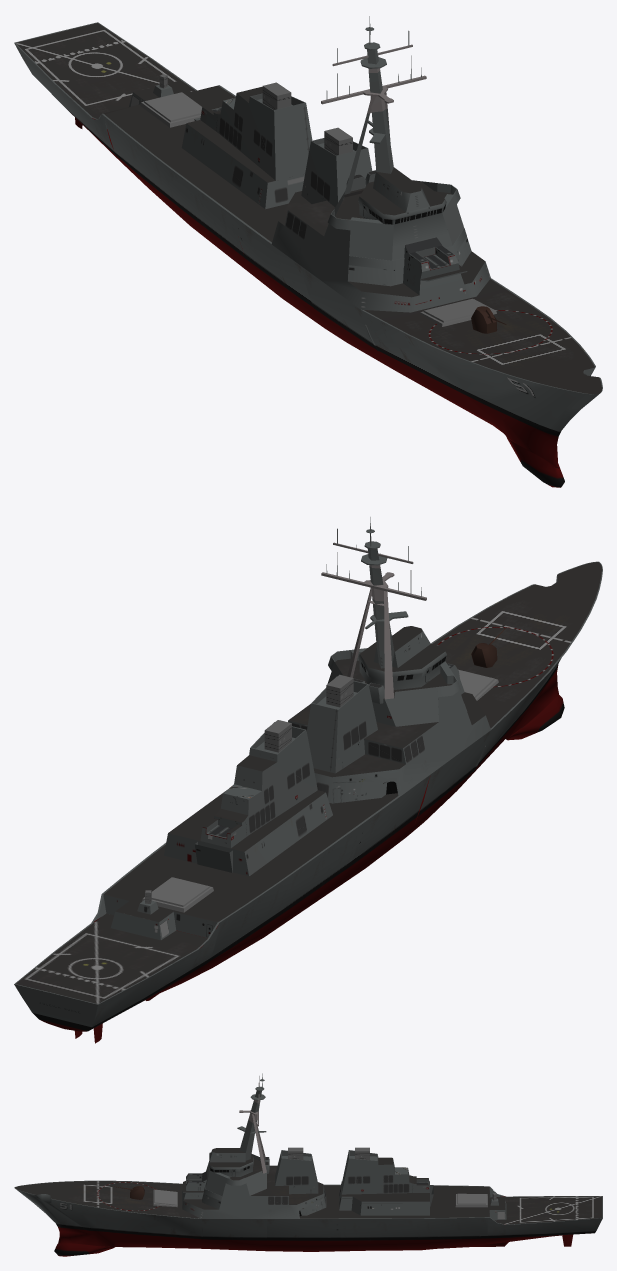
Rendered from AErBoKe.gltf.
3 views of the same model, one above another, from view 1: azimuth 30°, elevation 25°; view 2: azimuth 150°, elevation 25°; view 3: azimuth 270°, elevation 25° (orthographic). The views are drawn at different scales.
Visible parts, largest first — view 1: AErBoKe; view 2: AErBoKe; view 3: AErBoKe.
Boxes of the visible parts, left/top/right/bottom form: AErBoKe: left=14, top=16, right=602, bottom=487; AErBoKe: left=14, top=517, right=602, bottom=1043; AErBoKe: left=14, top=1073, right=602, bottom=1256.
Bounding box in the file's own units: 22.09 × 55.12 × 160.
Materials: 2 (2 with a texture image).
